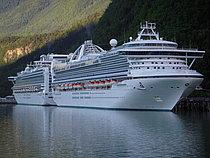Ship: (51, 20, 210, 115), (5, 50, 77, 108)
